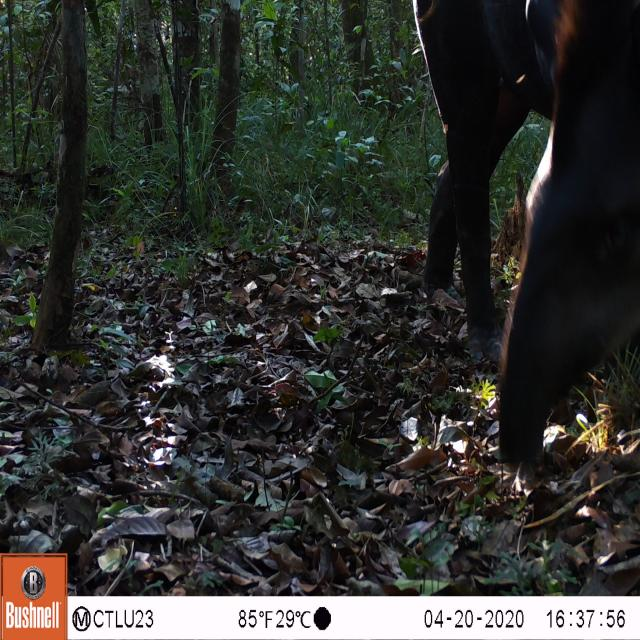Lowland Tapir: (384, 0, 640, 469)
